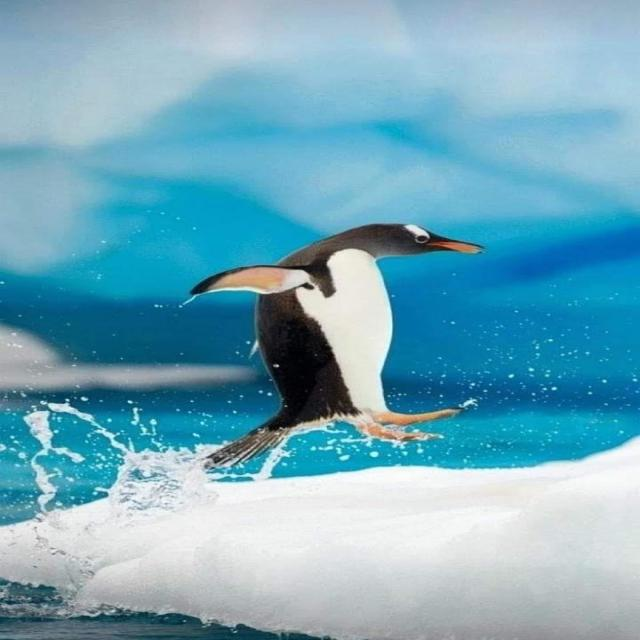Penguins: (245, 215, 486, 472)
